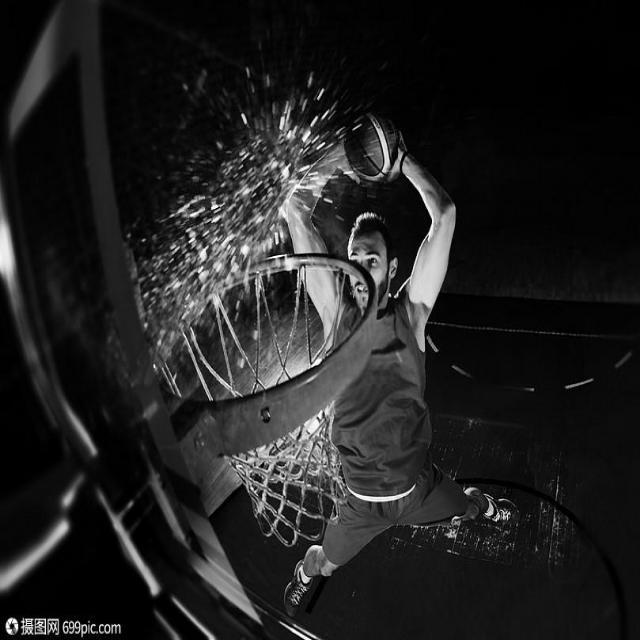rim: (343, 112, 405, 182)
